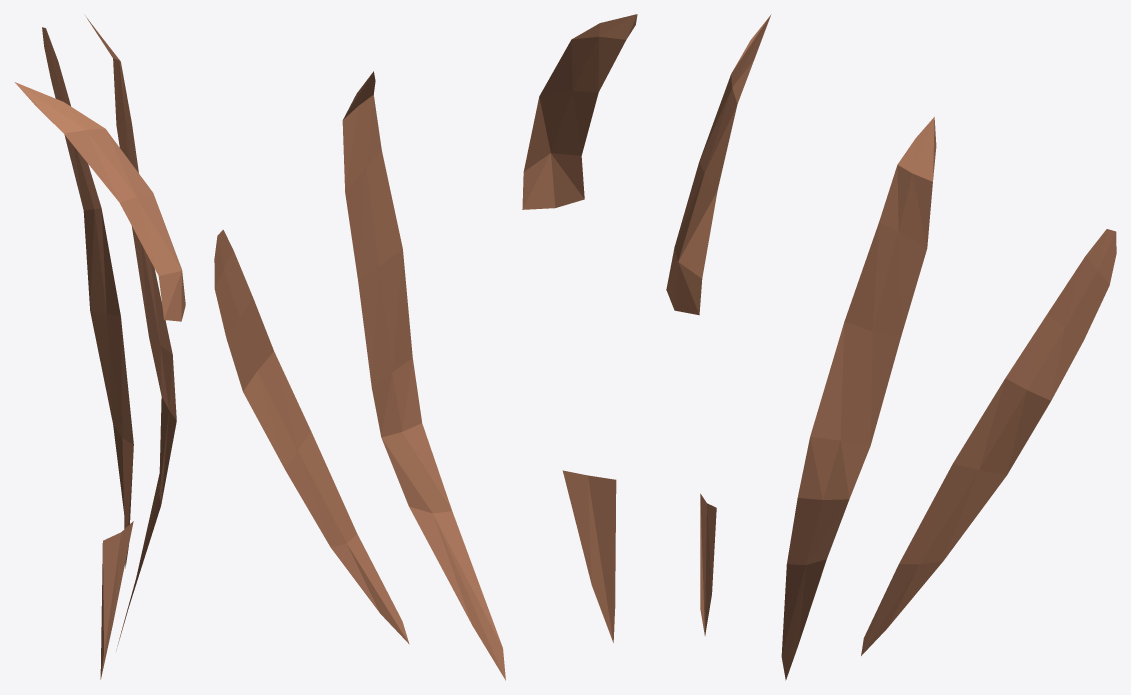
Rendered from miscLionScar.glb.
3 renders of one model, left to right at view 1: azimuth 30°, elevation 25°; view 2: azimuth 150°, elevation 25°; view 3: azimuth 270°, elevation 25°, orthographic. The views are drawn at different scales.
Parts seen in each view (by area): view 1: miscLionScar; view 2: miscLionScar; view 3: miscLionScar.
Boxes of the visible parts, bbox=[...] form: miscLionScar: bbox=[14, 15, 185, 679]; miscLionScar: bbox=[214, 14, 637, 680]; miscLionScar: bbox=[666, 14, 1116, 680].
Size of the model in its own units: 0.0835 by 0.2326 by 0.1547.
